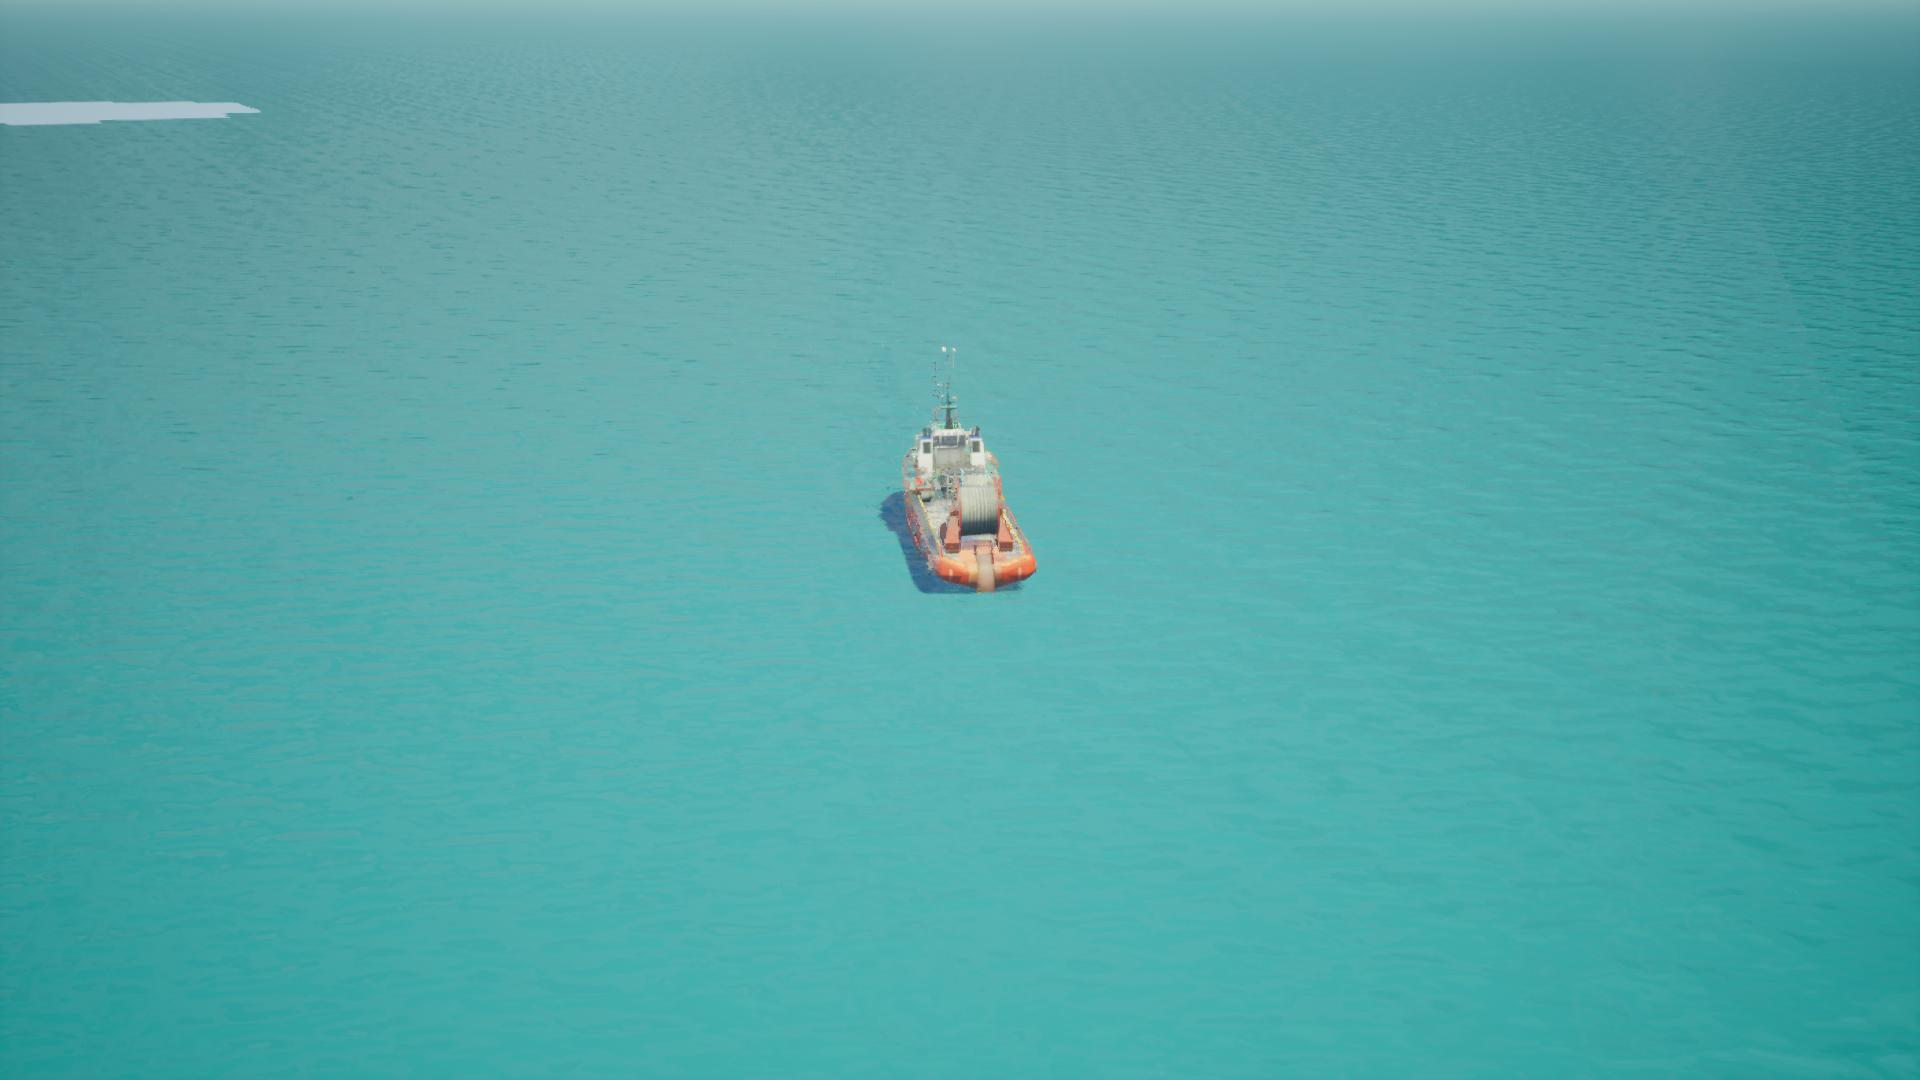Tug Boat: (886, 351, 1029, 599)
